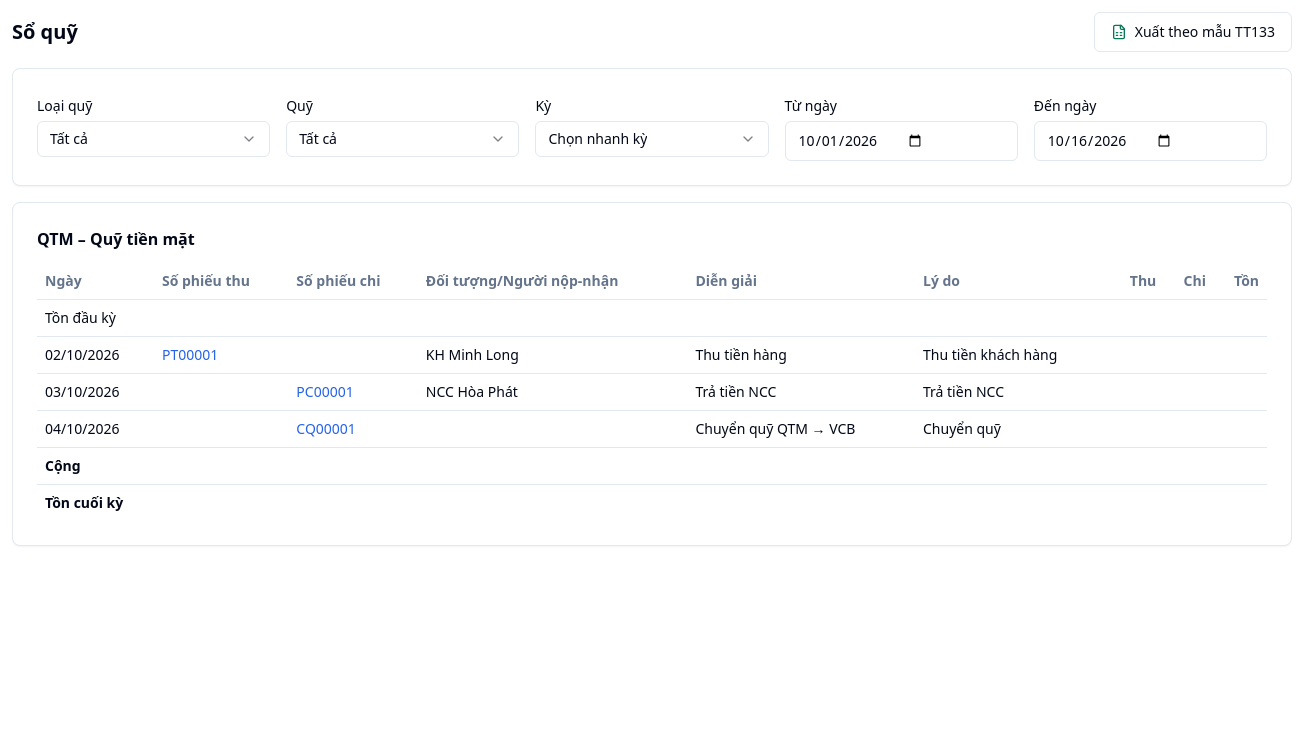
CashBookPage › fund options follow the kind filter
Click the dropdown named "Quỹ" at (403, 139), box [286,121,519,157]
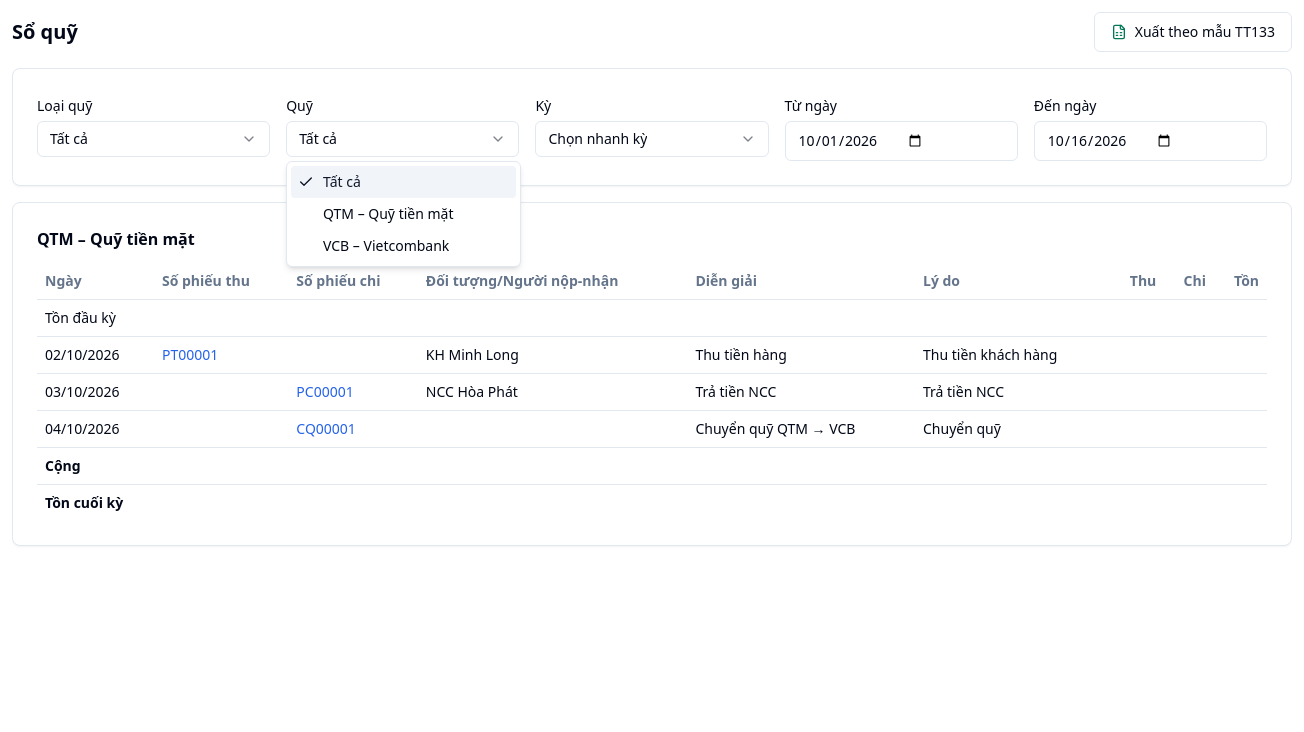
Expected: the option "QTM – Quỹ tiền mặt" is shown
Expected: the option "VCB – Vietcombank" is shown, [323,236,449,255]
Click the option "QTM – Quỹ tiền mặt" at (388, 214), box [323,204,454,223]
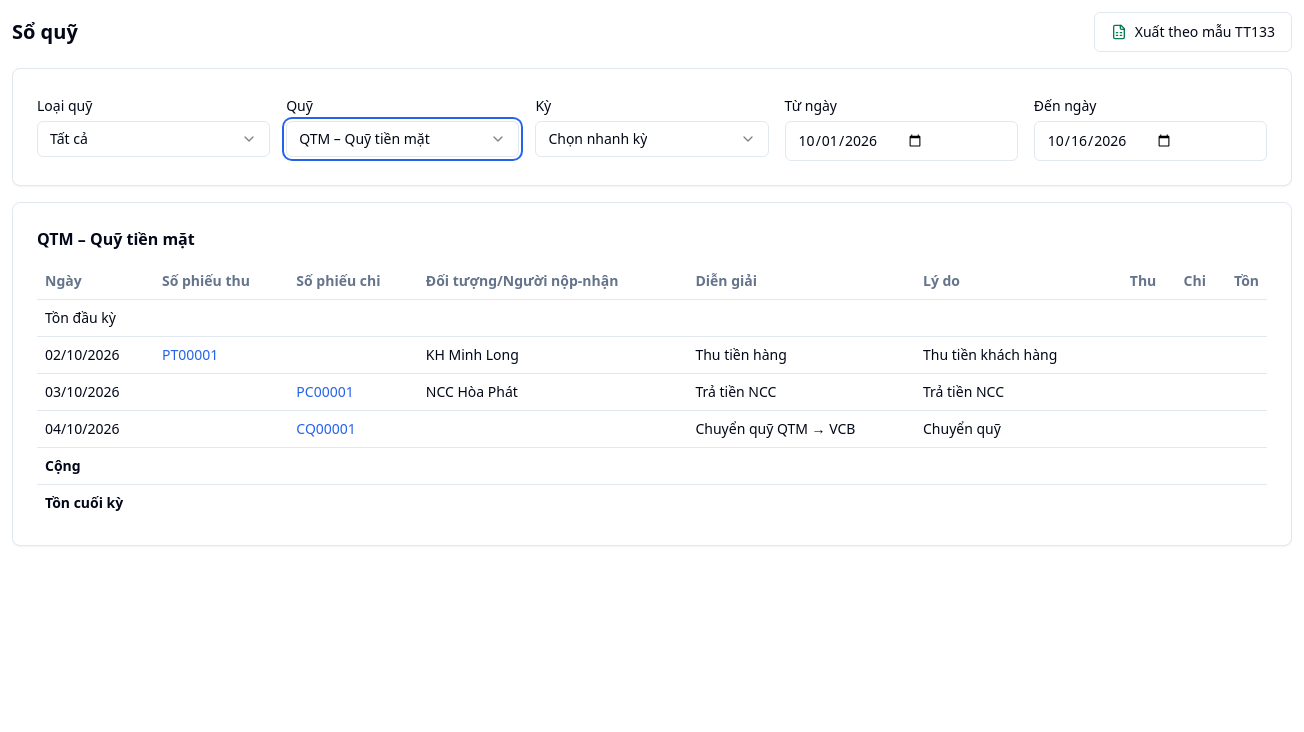
Note: Switching the kind lists only its funds and drops a fund of the other kind.
Click the dropdown named "Loại quỹ" at (154, 139), box [37,121,270,157]
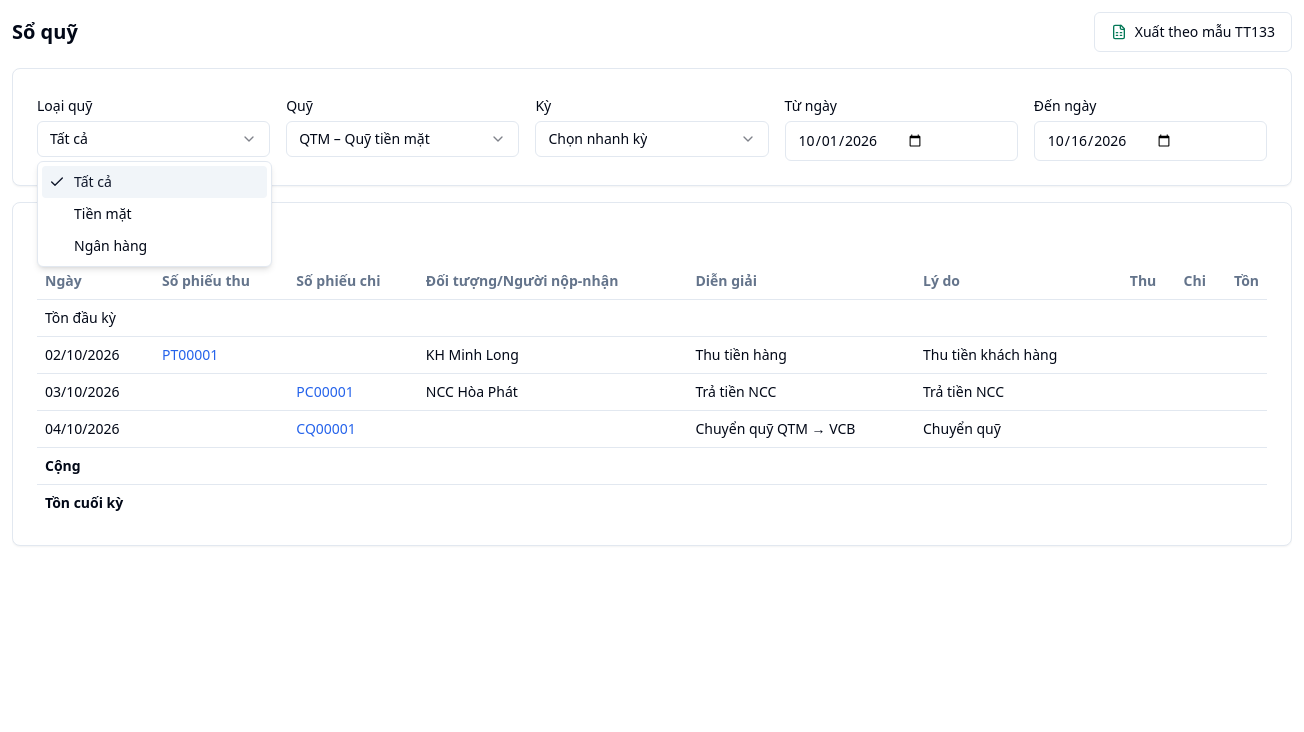
Click the option "Ngân hàng" at (111, 246), box [74,236,147,255]
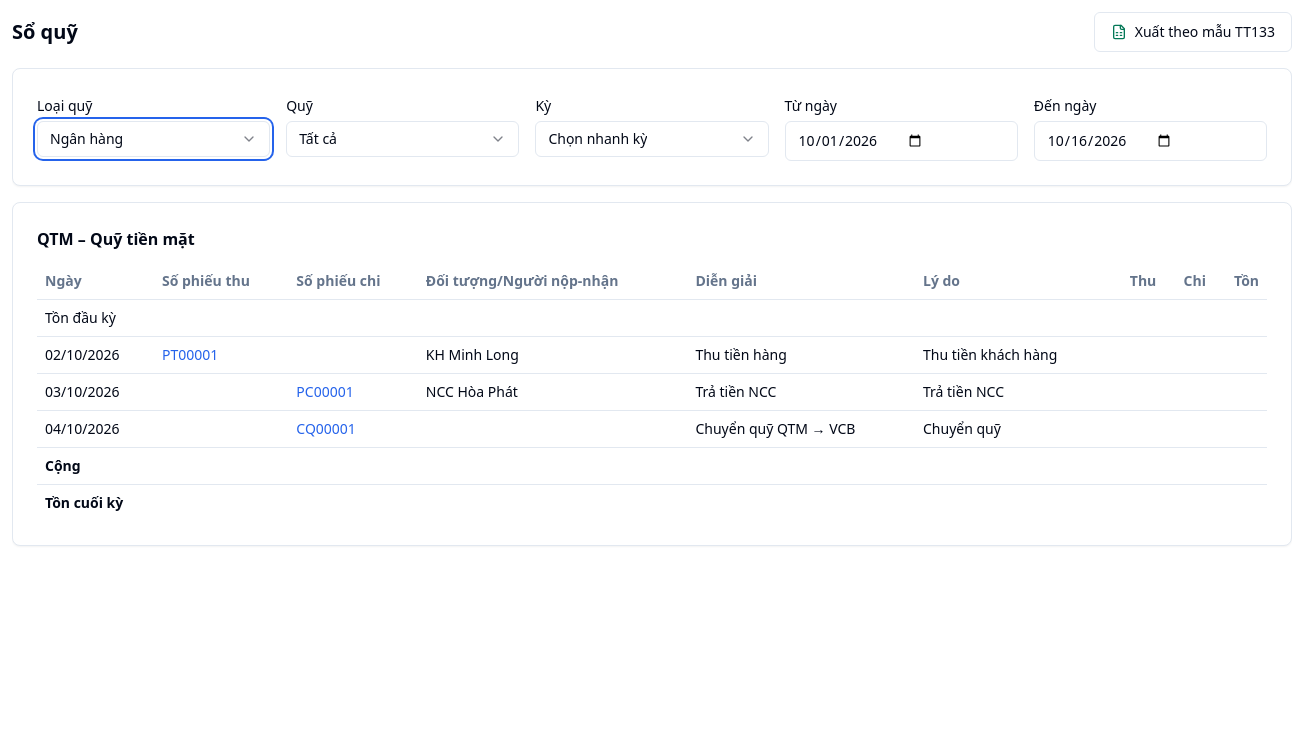
Expected: the dropdown named "Quỹ" reads "Tất cả"
Click the dropdown named "Quỹ" at (403, 139), box [286,121,519,157]
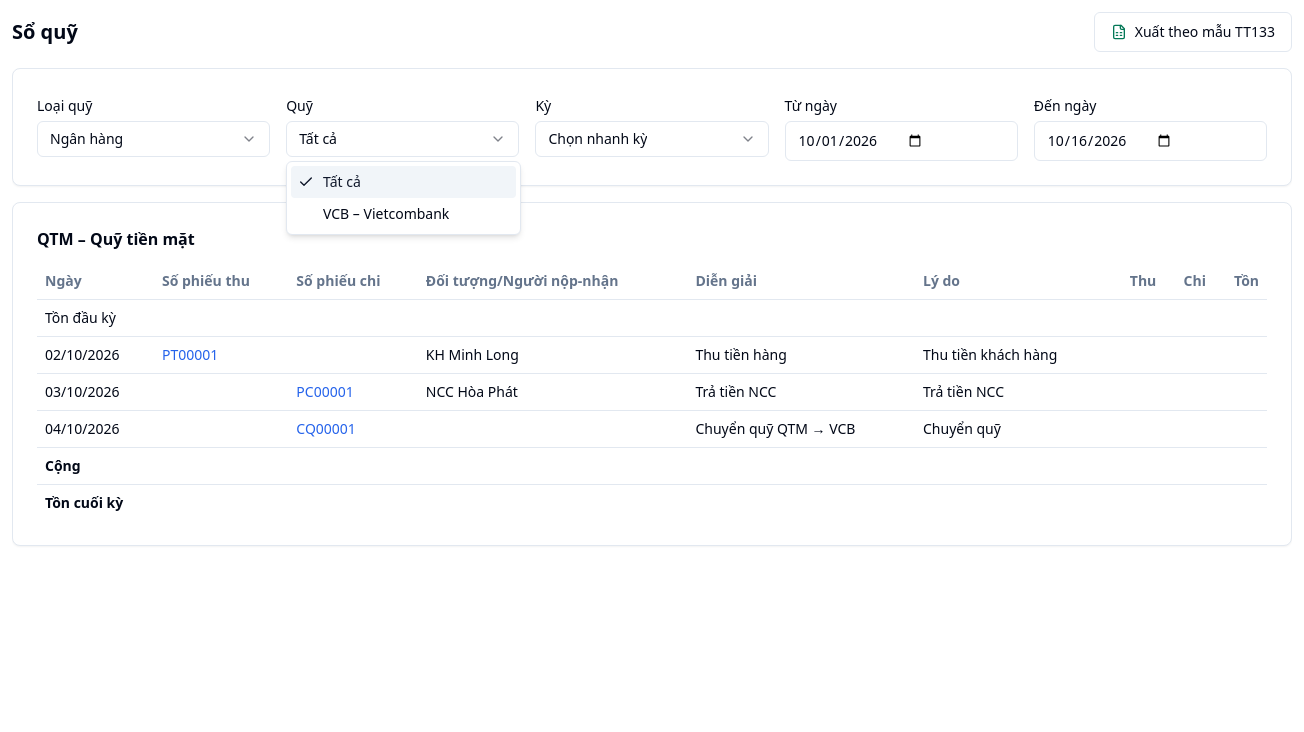
Expected: the option "VCB – Vietcombank" is shown, [323,204,449,223]
